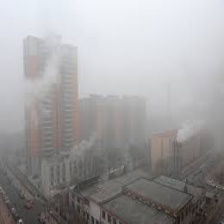smoke: (1, 24, 202, 137)
